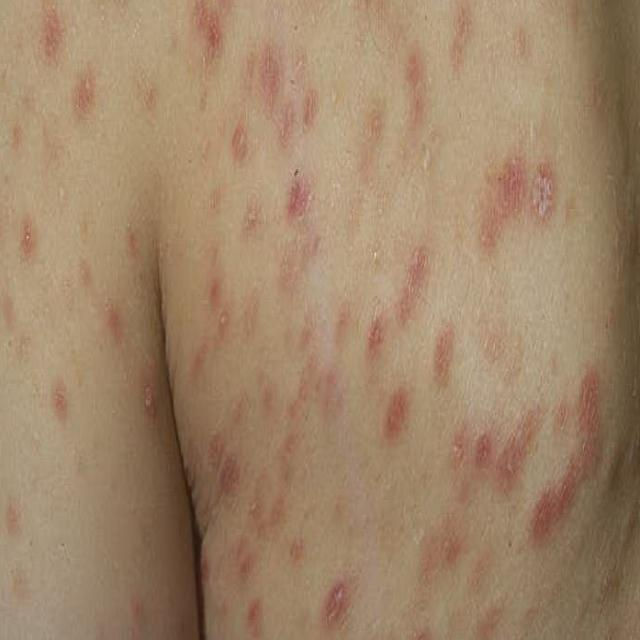Rosacea: (8, 0, 604, 639)
